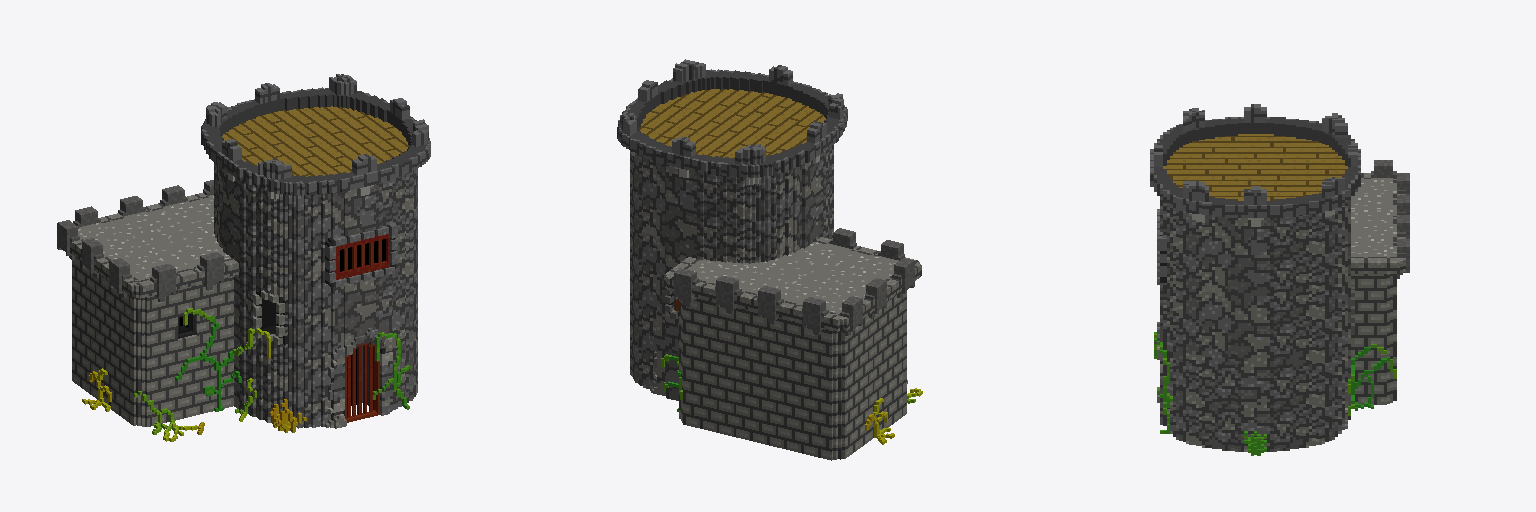
3 renders of one model, left to right at view 1: azimuth 30°, elevation 25°; view 2: azimuth 150°, elevation 25°; view 3: azimuth 270°, elevation 25°, orthographic.
Parts seen in each view (by area): view 1: object 1; view 2: object 1; view 3: object 1.
Part boxes in pixels (bbox=[...]): object 1: bbox=[57, 74, 430, 441]; object 1: bbox=[617, 59, 922, 460]; object 1: bbox=[1150, 104, 1409, 455].
Size of the model in its own units: 10.3 by 9 by 8.
1 materials, 1 textured.